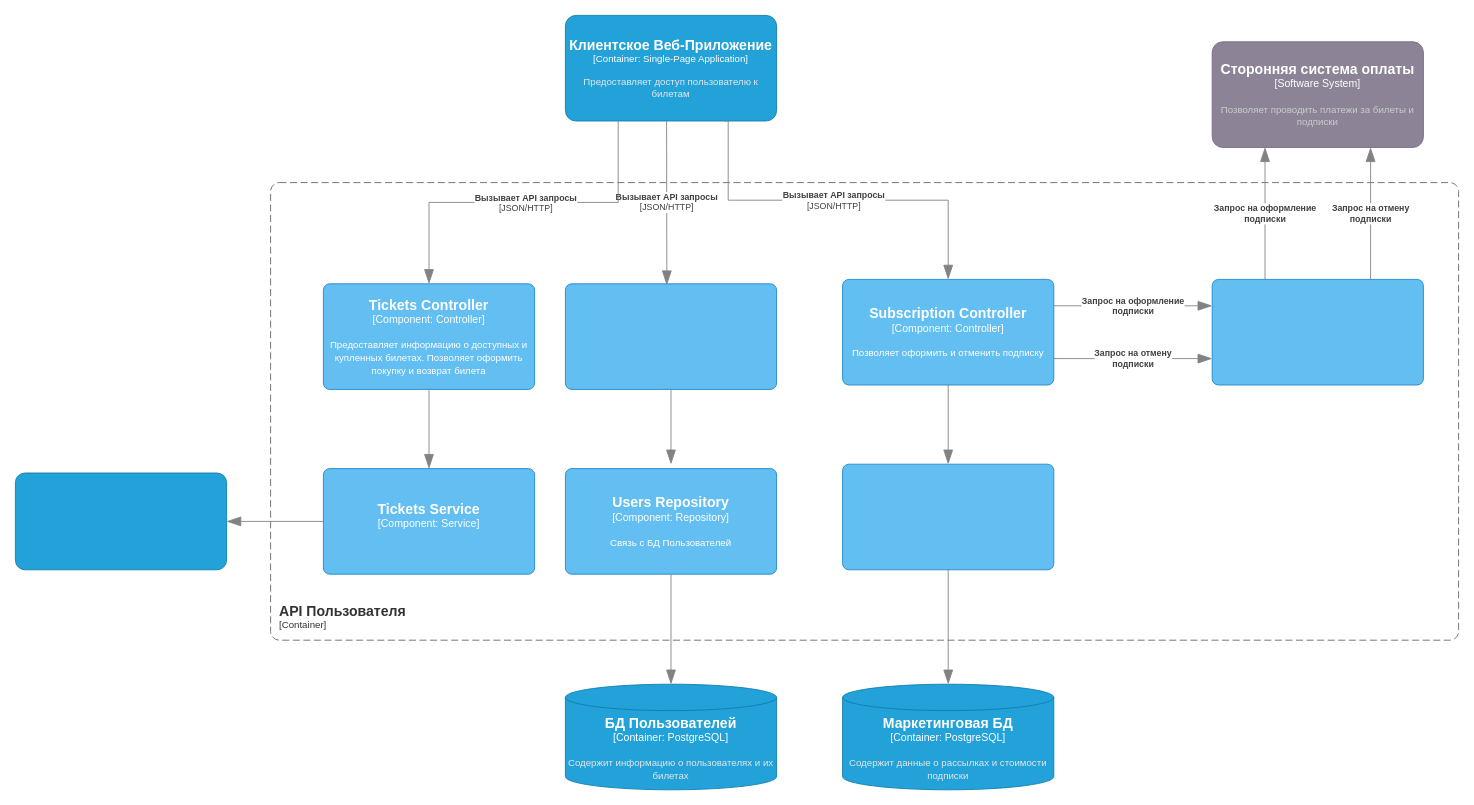
The diagram is 1474 pixels wide and 805 high, and some of its shapes have lost their labels. Here are the shapes that lost their labels. From the top down, the centre of each, then its label:
At (x=671, y=336): "Users Controller [Component: Controller] Предоставляет информацию о пользователе".
At (x=1317, y=332): "Payment service [Component: Service] Провайдер внешнего сервиса оплаты".
At (x=121, y=521): "API Мероприятий и Билетов [Container: Service]".
At (x=948, y=516): "Subscription Repository [Component: Repository] Связь с БД Маркетинговой".
